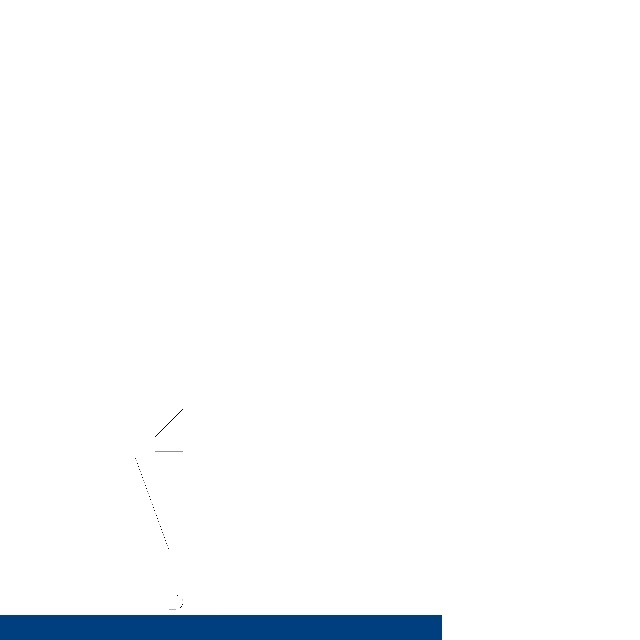interruptor_termomagnetico: (129, 389, 189, 633)
